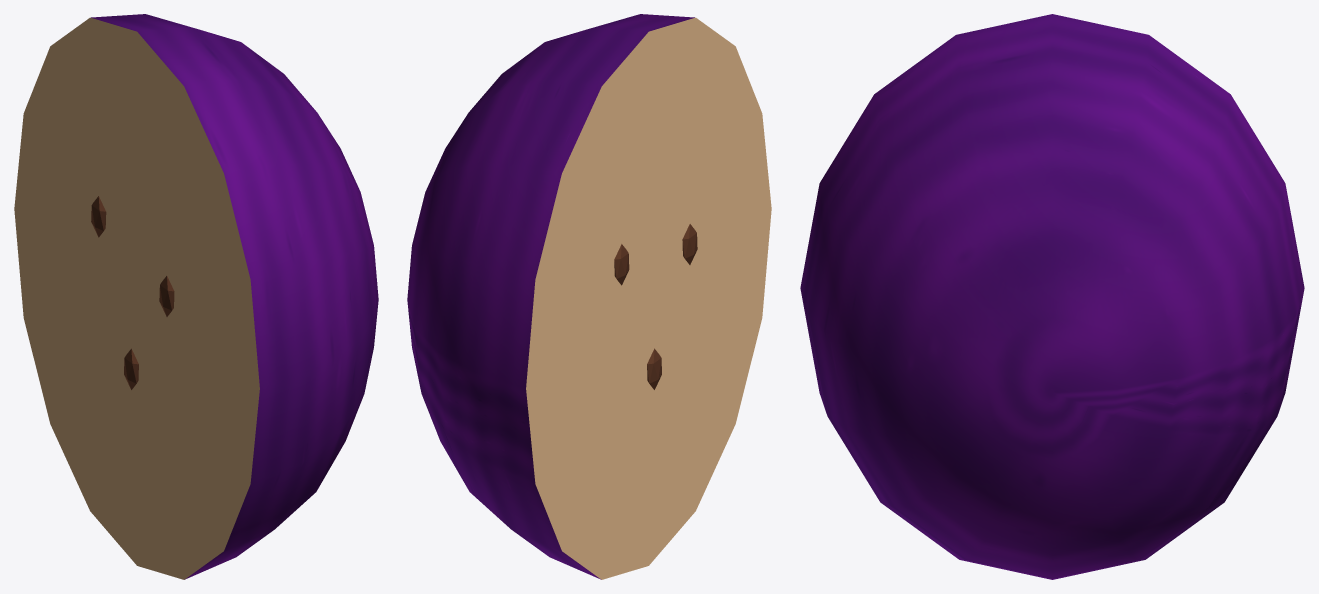
Rendered from plum_half.glb.
3 views of the same model, side by side, from view 1: azimuth 30°, elevation 25°; view 2: azimuth 150°, elevation 25°; view 3: azimuth 270°, elevation 25° (orthographic). The views are drawn at different scales.
Parts seen in each view (by area): view 1: PlumHalf_Body, PlumHalf; view 2: PlumHalf_Body, PlumHalf; view 3: PlumHalf_Body.
Boxes of the visible parts, x1,y1,x2,y2 form: PlumHalf_Body: (14,14,378,579); PlumHalf: (91,196,174,389); PlumHalf_Body: (407,14,771,579); PlumHalf: (614,224,697,389); PlumHalf_Body: (800,14,1304,579).
Size of the model in its own units: 0.46 by 1.08 by 0.9.
3 materials, 1 textured.
